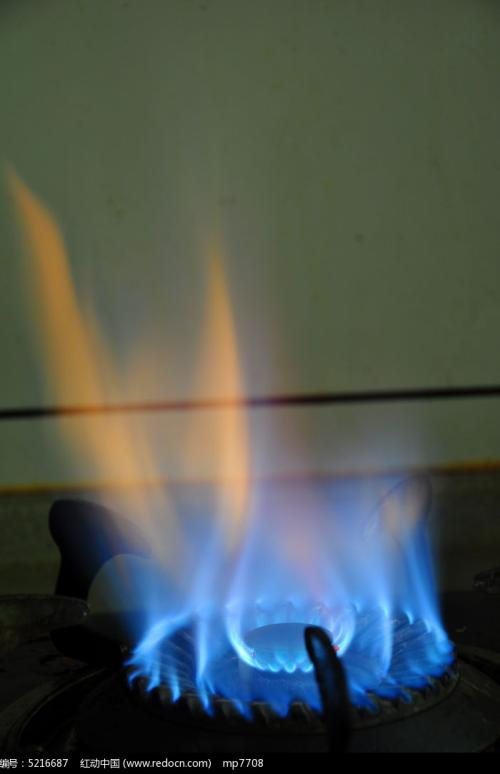fire: (46, 255, 469, 725)
